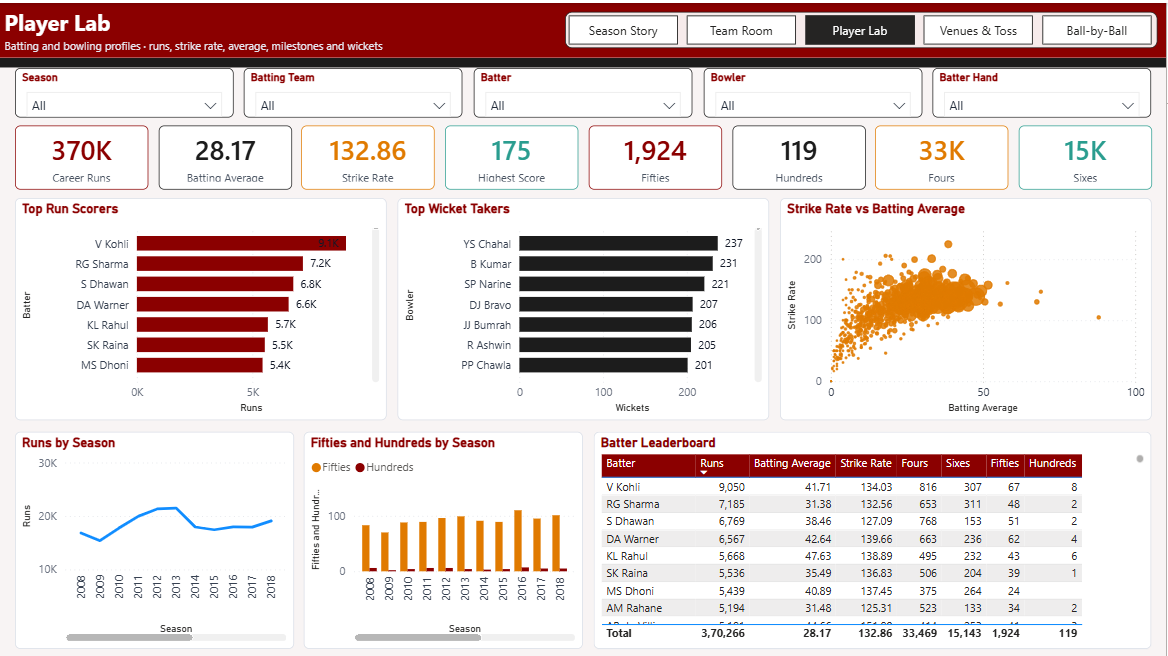

This screenshot's page, from the dashboard's own definition file:
{"tool":"powerbi","page":{"name":"Player Lab","canvas":[1280,720],"ordinal":2},"visuals":[{"type":"textbox","box":[0,0,1280,60],"z":1000},{"type":"textbox","box":[0,60,1280,4],"z":2000},{"type":"pageNavigator","box":[620,10,650,40],"z":3000},{"type":"slicer","title":"Season","fields":{"Values":["Dim Season.season"]},"box":[16,72,240,54],"z":4000},{"type":"slicer","title":"Batting Team","fields":{"Values":["Dim Team.team_name"]},"box":[268,72,240,54],"z":5000},{"type":"slicer","title":"Batter","fields":{"Values":["Fact Ball.batter"]},"box":[520,72,240,54],"z":6000},{"type":"slicer","title":"Bowler","fields":{"Values":["Fact Ball.bowler"]},"box":[772,72,240,54],"z":7000},{"type":"slicer","title":"Batter Hand","fields":{"Values":["Fact Ball.batsman_type"]},"box":[1024,72,240,54],"z":8000},{"type":"card","fields":{"Values":["_Measures.Career Runs"]},"box":[16,134,146,70],"z":9000},{"type":"card","fields":{"Values":["_Measures.Career Average"]},"box":[174,134,146,70],"z":10000},{"type":"card","fields":{"Values":["_Measures.Career Strike Rate"]},"box":[331,134,146,70],"z":11000},{"type":"card","fields":{"Values":["_Measures.Highest Score"]},"box":[488,134,146,70],"z":12000},{"type":"card","fields":{"Values":["_Measures.Fifties"]},"box":[646,134,146,70],"z":13000},{"type":"card","fields":{"Values":["_Measures.Hundreds"]},"box":[804,134,146,70],"z":14000},{"type":"card","fields":{"Values":["_Measures.Fours"]},"box":[961,134,146,70],"z":15000},{"type":"card","fields":{"Values":["_Measures.Sixes"]},"box":[1118,134,146,70],"z":16000},{"type":"clusteredBarChart","title":"Top Run Scorers","fields":{"Category":["Fact Ball.batter"],"Y":["_Measures.Batter Runs"]},"box":[16,214,408,244],"z":17000},{"type":"clusteredBarChart","title":"Top Wicket Takers","fields":{"Category":["Fact Ball.bowler"],"Y":["_Measures.Total Wickets"]},"box":[436,214,408,244],"z":18000},{"type":"scatterChart","title":"Strike Rate vs Batting Average","fields":{"Category":["Fact Ball.batter"],"Size":["_Measures.Batter Runs"],"X":["_Measures.Batting Average"],"Y":["_Measures.Strike Rate"]},"box":[856,214,408,244],"z":19000},{"type":"lineChart","title":"Runs by Season","fields":{"Category":["Dim Season.season"],"Y":["_Measures.Batter Runs"]},"box":[16,470,306,238],"z":20000},{"type":"clusteredColumnChart","title":"Fifties and Hundreds by Season","fields":{"Category":["Dim Season.season"],"Y":["_Measures.Fifties","_Measures.Hundreds"]},"box":[334,470,306,238],"z":21000},{"type":"tableEx","title":"Batter Leaderboard","fields":{"Values":["Fact Ball.batter","_Measures.Batter Runs","_Measures.Batting Average","_Measures.Strike Rate","_Measures.Fours","_Measures.Sixes","_Measures.Fifties","_Measures.Hundreds"]},"box":[652,470,612,238],"z":22000}]}

Visuals, with their boxes in screenshot pixels (x1, y1, x2, y2), scaled from the page's 1280x720 canvas onto the 1168x656 screenshot:
textbox: bbox=[0, 0, 1167, 55]
textbox: bbox=[0, 55, 1167, 58]
pageNavigator: bbox=[566, 9, 1159, 46]
"Season" slicer: bbox=[15, 66, 234, 115]
"Batting Team" slicer: bbox=[245, 66, 464, 115]
"Batter" slicer: bbox=[474, 66, 694, 115]
"Bowler" slicer: bbox=[704, 66, 923, 115]
"Batter Hand" slicer: bbox=[934, 66, 1153, 115]
card - _Measures.Career Runs: bbox=[15, 122, 148, 186]
card - _Measures.Career Average: bbox=[159, 122, 292, 186]
card - _Measures.Career Strike Rate: bbox=[302, 122, 435, 186]
card - _Measures.Highest Score: bbox=[445, 122, 579, 186]
card - _Measures.Fifties: bbox=[589, 122, 723, 186]
card - _Measures.Hundreds: bbox=[734, 122, 867, 186]
card - _Measures.Fours: bbox=[877, 122, 1010, 186]
card - _Measures.Sixes: bbox=[1020, 122, 1153, 186]
"Top Run Scorers" clusteredBarChart: bbox=[15, 195, 387, 417]
"Top Wicket Takers" clusteredBarChart: bbox=[398, 195, 770, 417]
"Strike Rate vs Batting Average" scatterChart: bbox=[781, 195, 1153, 417]
"Runs by Season" lineChart: bbox=[15, 428, 294, 645]
"Fifties and Hundreds by Season" clusteredColumnChart: bbox=[305, 428, 584, 645]
"Batter Leaderboard" tableEx: bbox=[595, 428, 1153, 645]
